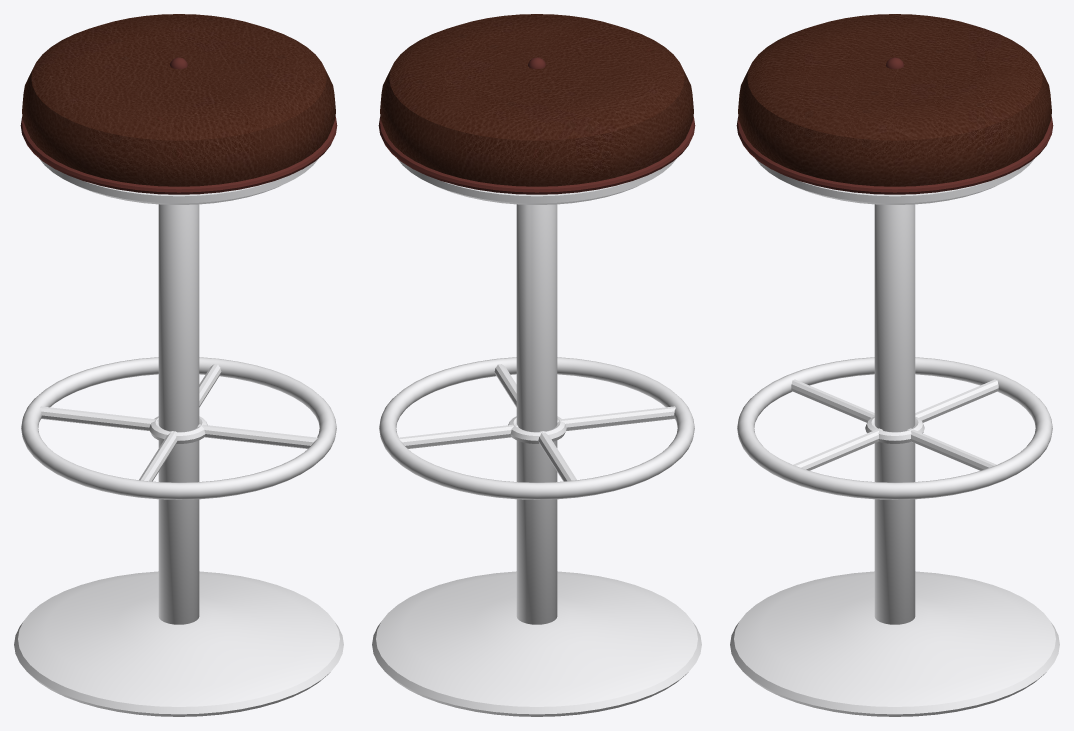
File: bar_stool.glb
3 renders of one model, left to right at view 1: azimuth 30°, elevation 25°; view 2: azimuth 150°, elevation 25°; view 3: azimuth 270°, elevation 25°, orthographic.
Parts seen in each view (by area): view 1: Chrome, Cushion, Leather piping; view 2: Chrome, Cushion, Leather piping; view 3: Chrome, Cushion, Leather piping.
Part boxes in pixels (<box>): Chrome: <box>14,158,343,716</box>; Cushion: <box>22,14,335,186</box>; Leather piping: <box>20,57,337,194</box>; Chrome: <box>372,158,701,716</box>; Cushion: <box>380,14,693,186</box>; Leather piping: <box>378,57,695,194</box>; Chrome: <box>730,158,1059,716</box>; Cushion: <box>738,14,1051,186</box>; Leather piping: <box>736,57,1053,194</box>.
Size of the model in its own units: 0.42 by 0.83 by 0.42.
4 materials, 1 textured.
